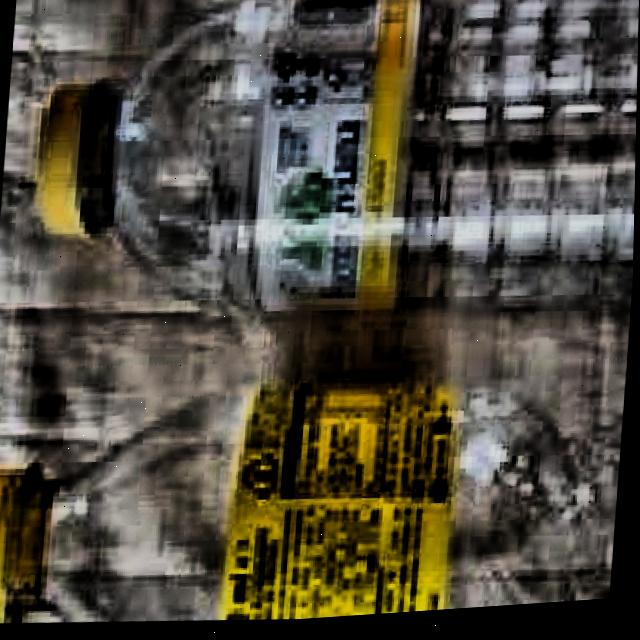plastic: (2, 0, 640, 372), (0, 336, 630, 640)
